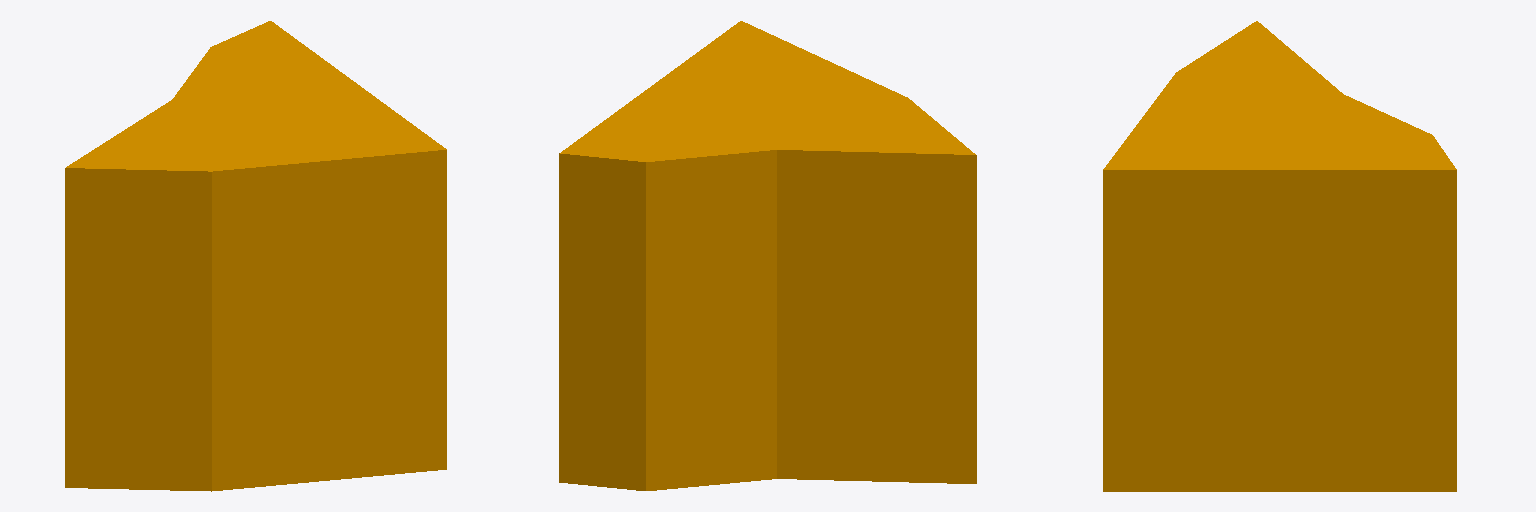
URDF robot description (object):
<?xml version="1.0"?>
<robot name="object">
  <link name="object">
    <visual>
      <origin xyz="0 0 0"/>
      <geometry>
        <mesh filename="meshes/polygon/poly_8_s.obj" scale=".03 .03 .03"/>
      </geometry>
    </visual>
    <collision>
  <origin xyz="0 0 0"/>
  <geometry>
    <mesh filename="meshes/polygon/poly_8_s_0decompose.obj" scale=".03 .03 .03"/>
<!--          <mesh filename="meshes/custom/obj0_ball.obj" scale=".05 .05 .05"/>-->
  </geometry>
</collision>

<!--    <collision>-->
<!--      <origin xyz="0 0 0"/>-->
<!--      <geometry>-->
<!--        <mesh filename="meshes/polygon/poly_8_s.obj" scale=".03 .03 .03"/>-->
<!--&lt;!&ndash;          <mesh filename="meshes/custom/obj0_ball.obj" scale=".05 .05 .05"/>&ndash;&gt;-->
<!--      </geometry>-->
<!--    </collision>-->
    <inertial>
      <density value="1000.0"/>
    </inertial>
  </link>
</robot>

--- What the picture shows (computed from the rendered views, not written in the file) ---
The picture shows the robot from 3 angles, left to right: view 1: azimuth 30°, elevation 25°; view 2: azimuth 150°, elevation 25°; view 3: azimuth 270°, elevation 25°; orthographic projection.
Robot: object — 1 links, 0 joints (none); root link object; default pose: every joint at zero.
Links seen in each view (by area): view 1: object; view 2: object; view 3: object.
Link boxes in pixels (left/top/right/bottom): object: left=65, top=21, right=446, bottom=491; object: left=559, top=21, right=976, bottom=490; object: left=1103, top=21, right=1456, bottom=491.
Size in the robot's own frame: 0.06 by 0.06 by 0.06 metres.
1 mesh visuals loaded from 1 distinct referenced files (1 OBJ).
